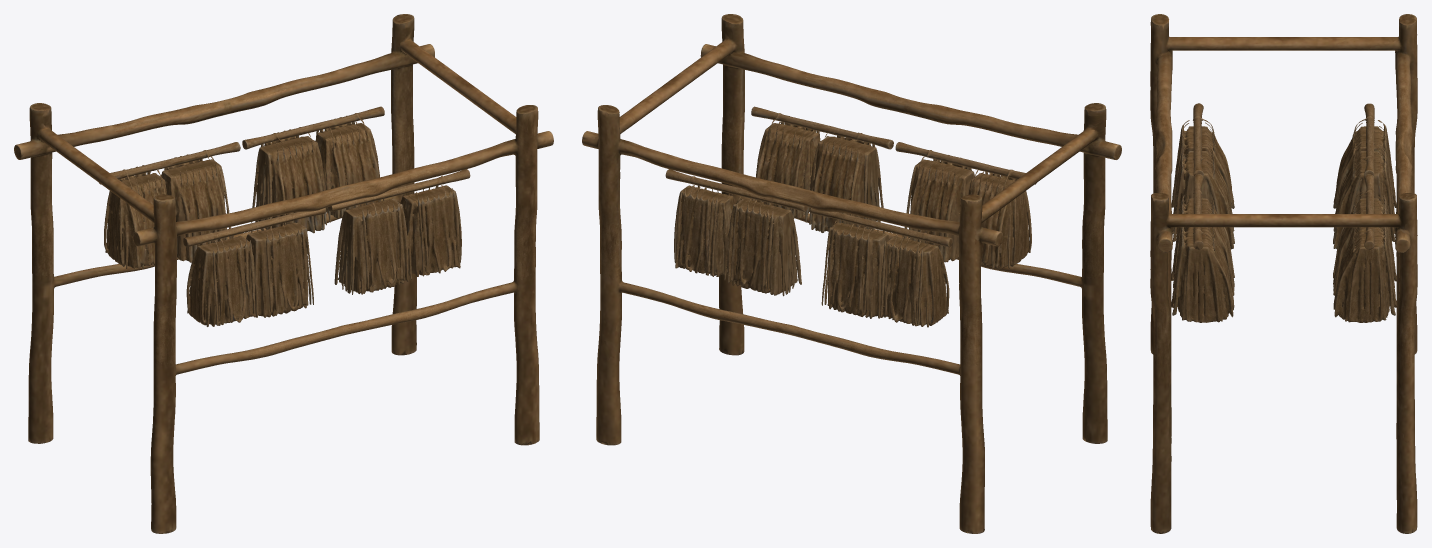
Rendered from prop07.glb.
3 views of the same model, side by side, from view 1: azimuth 30°, elevation 25°; view 2: azimuth 150°, elevation 25°; view 3: azimuth 270°, elevation 25° (orthographic).
Visible parts, largest first — view 1: mesh_node; view 2: mesh_node; view 3: mesh_node.
Boxes of the visible parts, left/top/right/bottom form: mesh_node: left=14, top=14, right=553, bottom=533; mesh_node: left=582, top=14, right=1121, bottom=533; mesh_node: left=1150, top=14, right=1417, bottom=533.
Size of the model in its own units: 1.9 by 1.46 by 1.06.
1 material, 1 textured.
